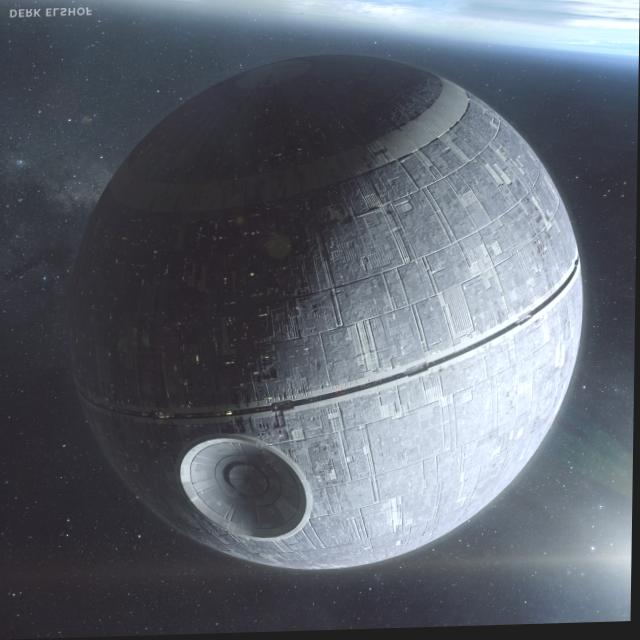deathStar: (69, 50, 589, 578)
